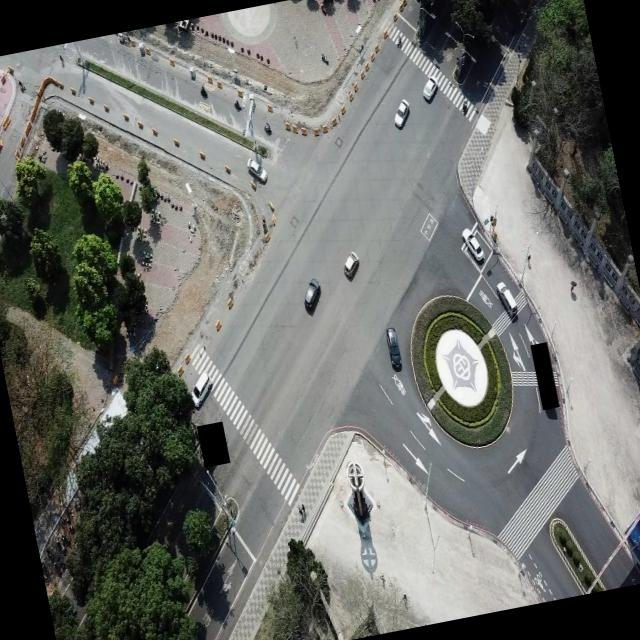bike: (457, 98, 470, 122), (262, 119, 272, 135), (233, 98, 243, 114), (198, 84, 208, 98)
car: (494, 278, 520, 322), (188, 374, 216, 410), (384, 324, 404, 370), (299, 276, 324, 312), (245, 152, 268, 187), (464, 230, 486, 266), (391, 99, 413, 130), (339, 250, 361, 280), (420, 77, 440, 104)
